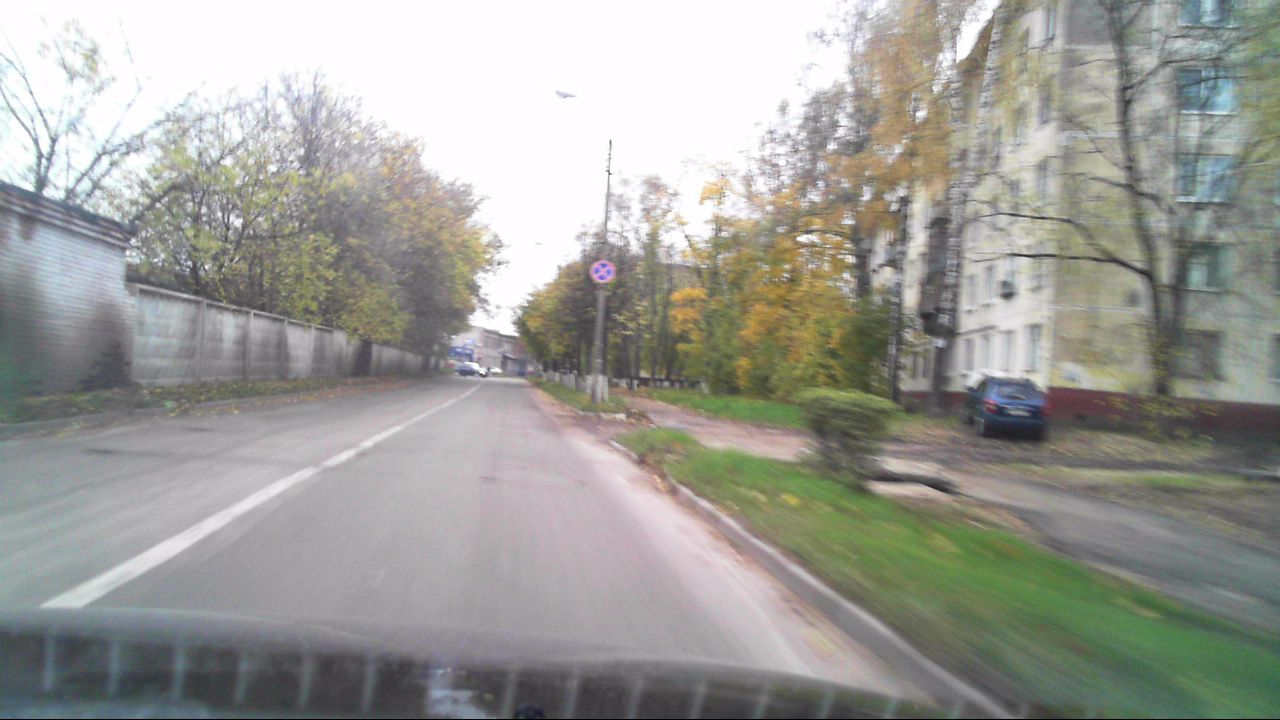No Parking: (589, 260, 614, 284)
